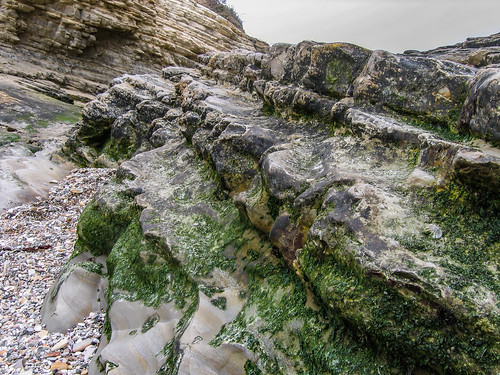rocks: (42, 20, 487, 375)
